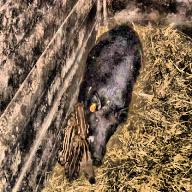boar: (80, 27, 154, 164)
